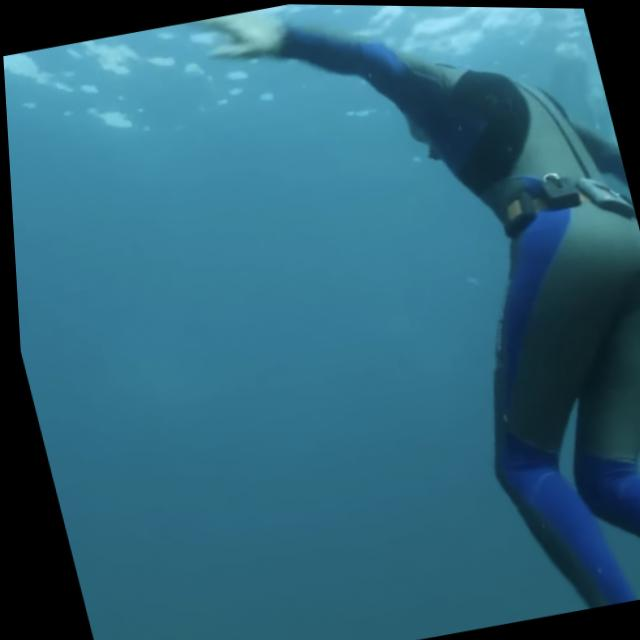human: (152, 2, 640, 640)
